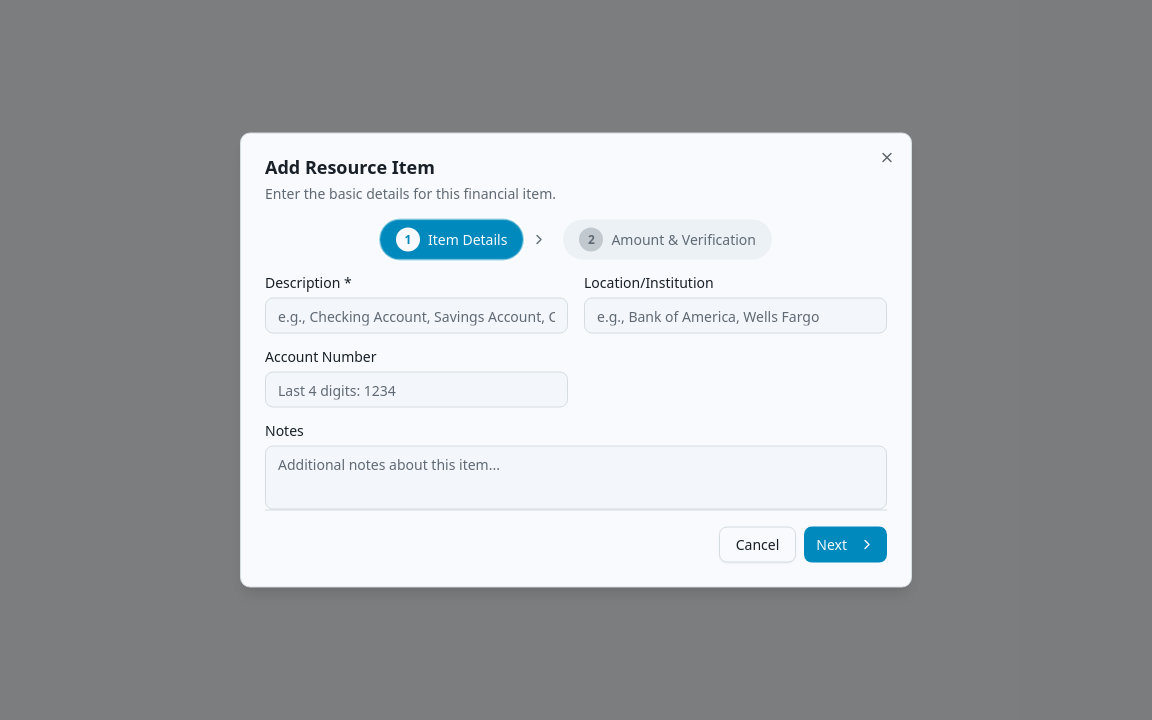
Test: FinancialItemStepperModal › keeps Add another checked after saving so the next item starts with the toggle preserved
Type "Test Item" into the field labelled "Description *" at (416, 316), box [265,298,568,334]
Click the button "Next" at (846, 544), box [804,526,887,562]
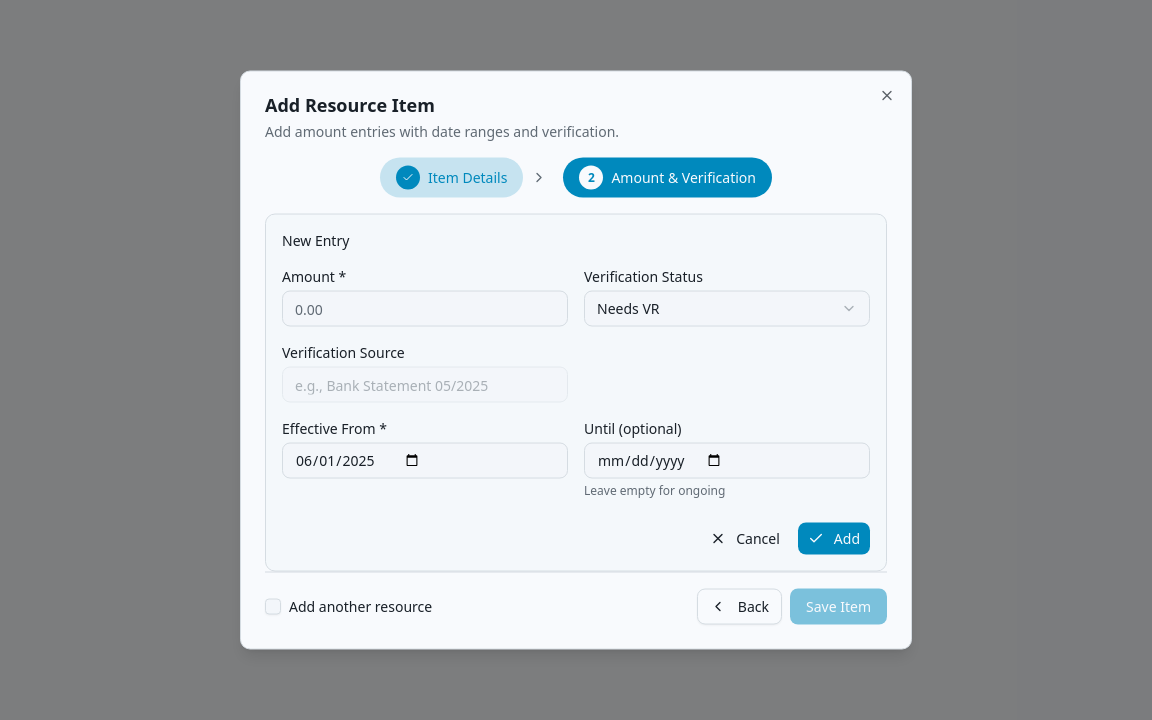
Check: the number field labelled "Amount *" is shown
Type "123.45" into the number field labelled "Amount *" at (425, 308), box [282,290,568,326]
Click the button "Add" at (834, 538), box [798,522,870,554]
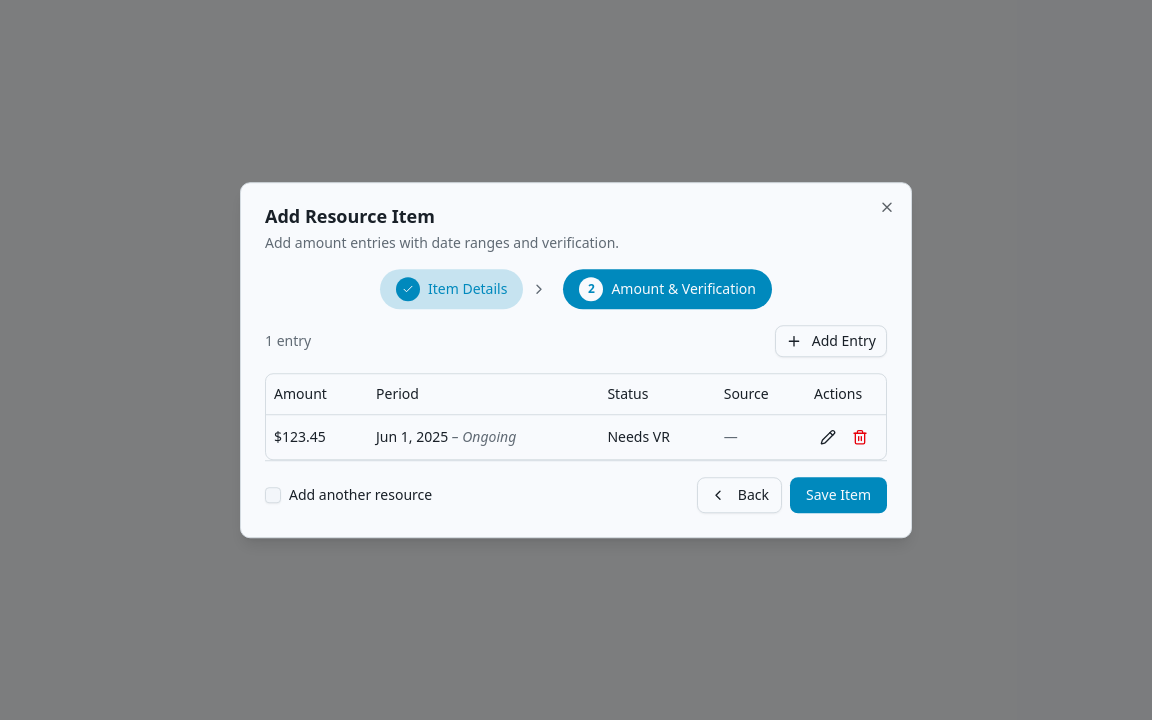
Click the checkbox named "Add another resource" at (273, 495), box [265,487,281,503]
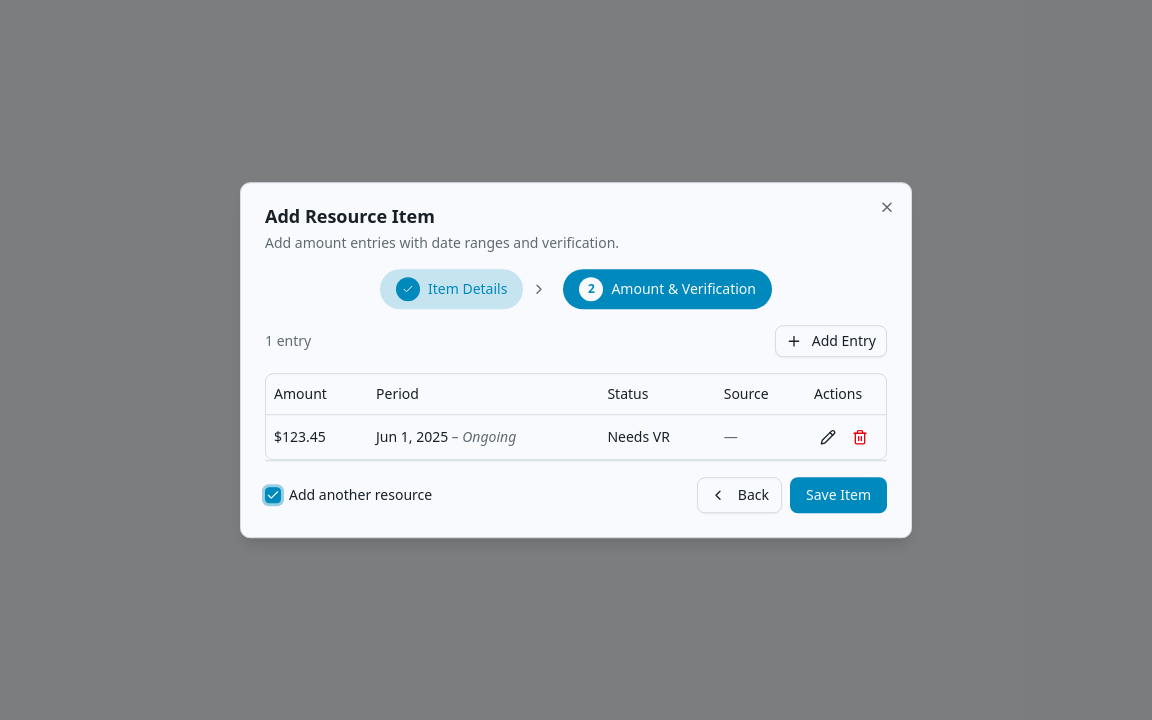
Click the button "Save Item" at (838, 495), box [790,477,887,513]
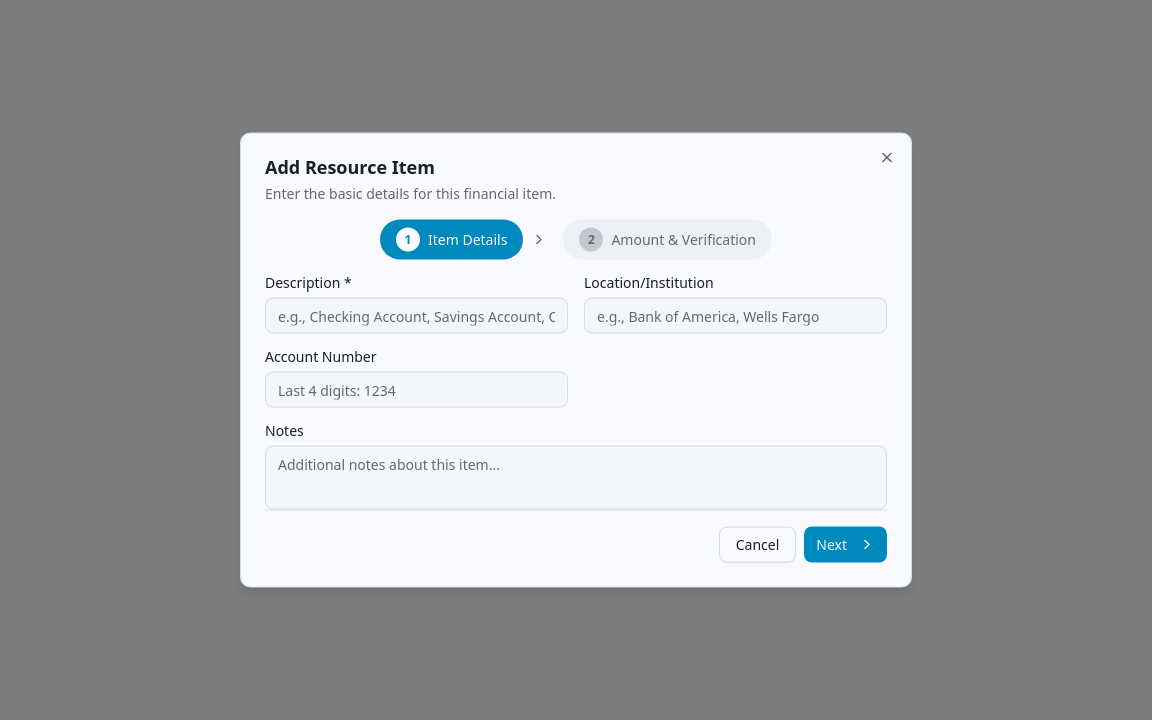
Check: the field labelled "Description *" is empty
Type "Next Item" into the field labelled "Description *" at (416, 316), box [265,298,568,334]
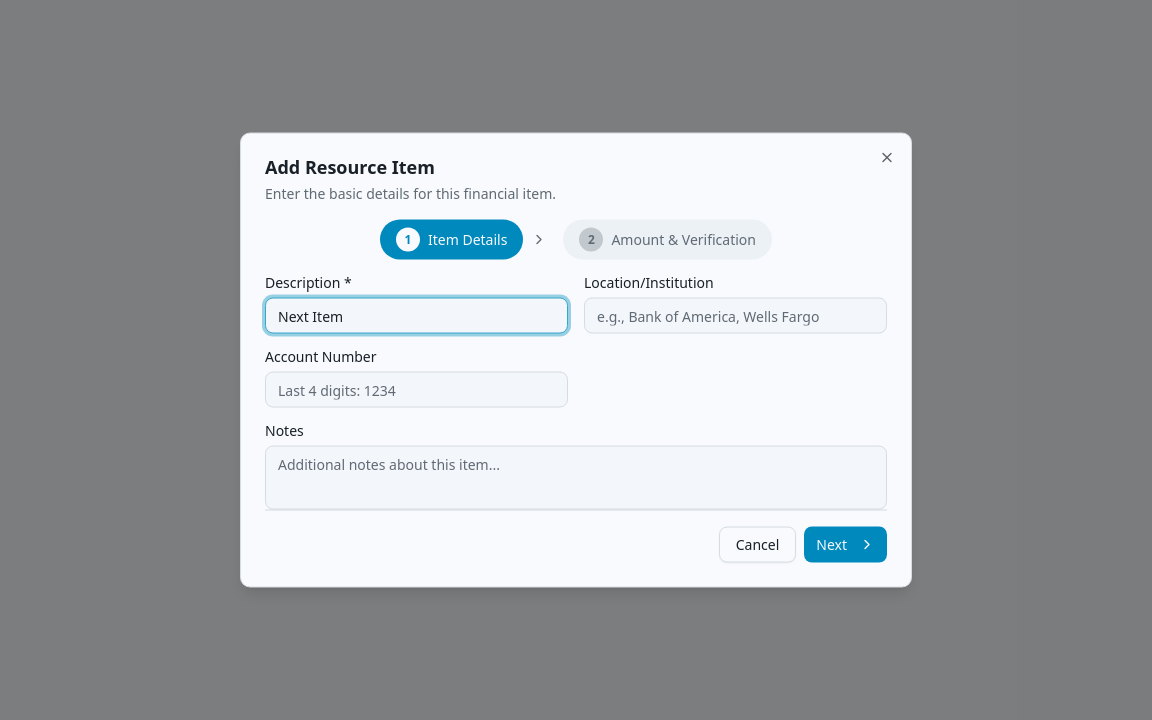
Click the button "Next" at (846, 544), box [804,526,887,562]
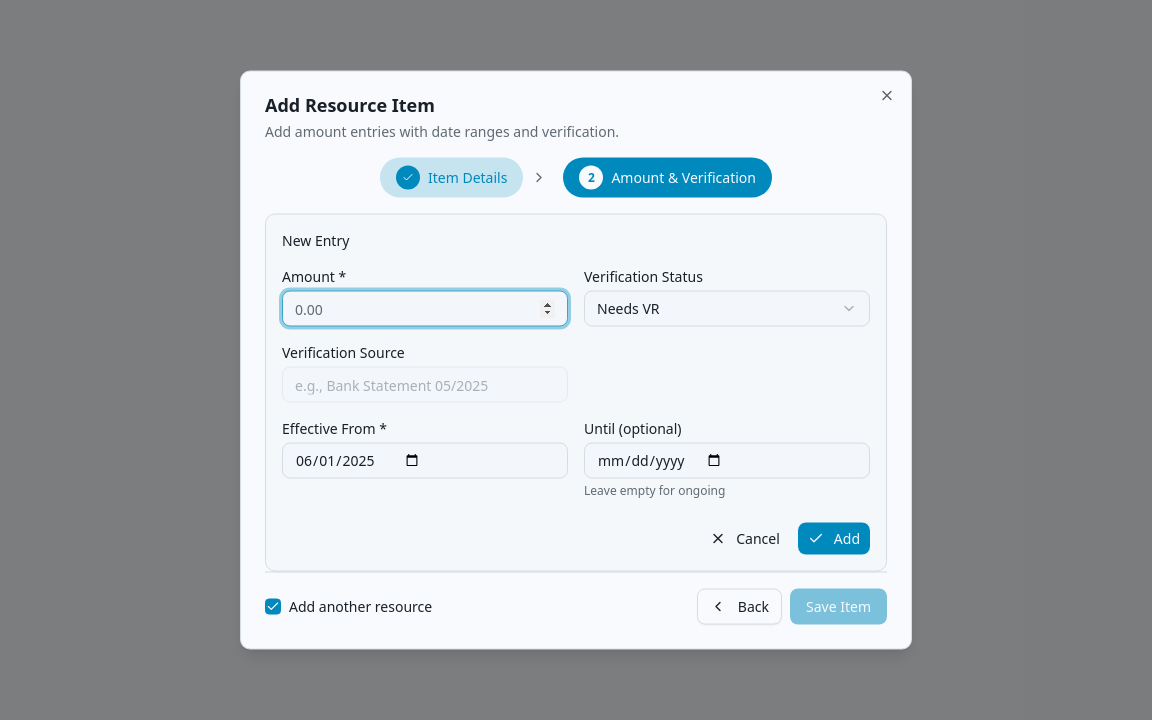
Check: the number field labelled "Amount *" is shown, box [282,290,568,326]
Check: the checkbox named "Add another resource" is checked, box [265,598,281,614]
